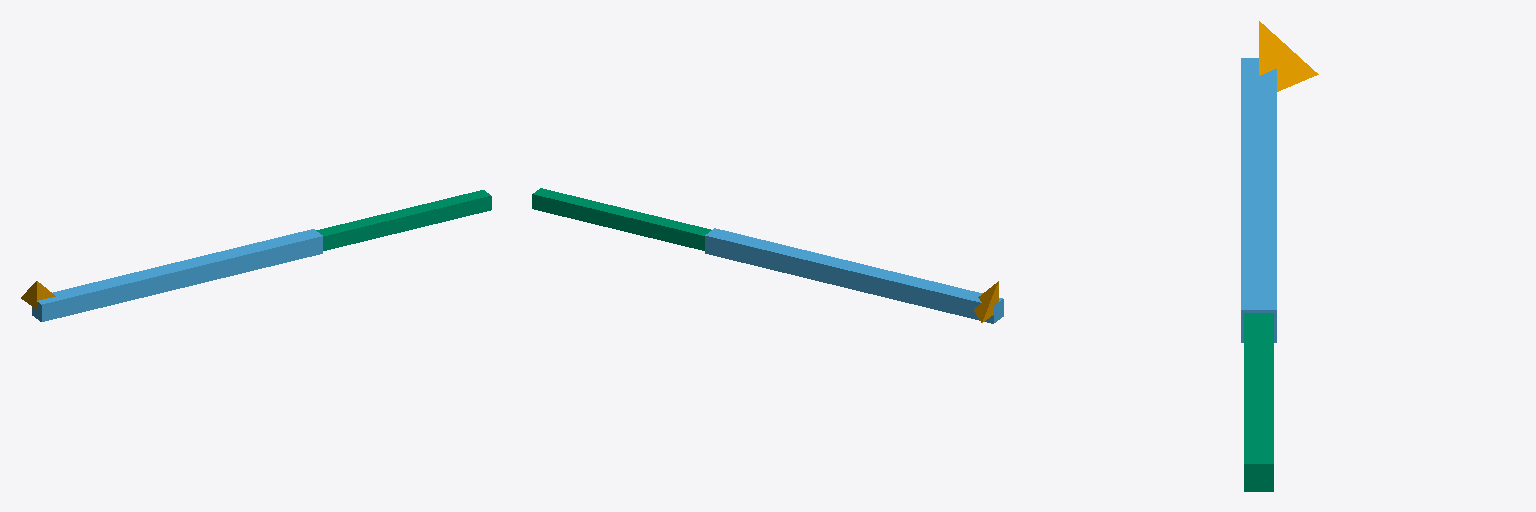
robot.urdf — two_link:
<!-- SPDX-FileCopyrightText: Copyright (c) 2026 The Newton Developers -->
<!-- SPDX-License-Identifier: Apache-2.0 -->
<robot name="two_link">
  <link name="base">
    <inertial><mass value="1"/><inertia ixx="0.05" ixy="0" ixz="0" iyy="0.05" iyz="0" izz="0.05"/></inertial>
    <visual><geometry><mesh filename="package://two_link/meshes/marker.obj"/></geometry></visual>
  </link>
  <link name="upper">
    <inertial><origin xyz="0.5 0 0"/><mass value="2"/><inertia ixx="0.02" ixy="0" ixz="0" iyy="0.18" iyz="0" izz="0.18"/></inertial>
    <visual><origin xyz="0.5 0 0"/><geometry><box size="1 0.06 0.06"/></geometry></visual>
  </link>
  <link name="forearm">
    <inertial><origin xyz="0.3 0 0"/><mass value="1"/><inertia ixx="0.01" ixy="0" ixz="0" iyy="0.04" iyz="0" izz="0.04"/></inertial>
    <visual><origin xyz="0.3 0 0"/><geometry><box size="0.6 0.05 0.05"/></geometry></visual>
  </link>
  <joint name="shoulder" type="revolute">
    <parent link="base"/><child link="upper"/><axis xyz="0 1 0"/>
    <limit lower="-2" upper="2" effort="10" velocity="10"/><dynamics damping="0.02"/>
  </joint>
  <joint name="elbow" type="revolute">
    <parent link="upper"/><child link="forearm"/><origin xyz="1 0 0"/><axis xyz="0 1 0"/>
    <limit lower="-2" upper="2" effort="10" velocity="10"/><dynamics damping="0.015"/>
  </joint>
</robot>

--- Render facts (derived) ---
The picture shows the robot from 3 angles, left to right: view 1: azimuth 30°, elevation 25°; view 2: azimuth 150°, elevation 25°; view 3: azimuth 270°, elevation 25°; orthographic projection.
Robot: two_link — 3 links, 2 joints (2 revolute); root link base; default pose: every joint at zero.
Links seen in each view (by area): view 1: upper, forearm; view 2: upper, forearm, base; view 3: upper, forearm, base.
Link boxes in pixels (x1,y1,x2,y2): upper: (32,229,322,321); forearm: (316,190,491,250); upper: (705,228,1003,323); forearm: (532,188,711,250); base: (974,281,998,322); upper: (1241,58,1276,342); forearm: (1244,313,1273,491); base: (1259,21,1318,91).
Bounding box of the posed robot: 1.6 × 0.13 × 0.13 m (x, y, z).
Meshes: 1 distinct files referenced, 1 mesh visuals loaded (1 OBJ).
